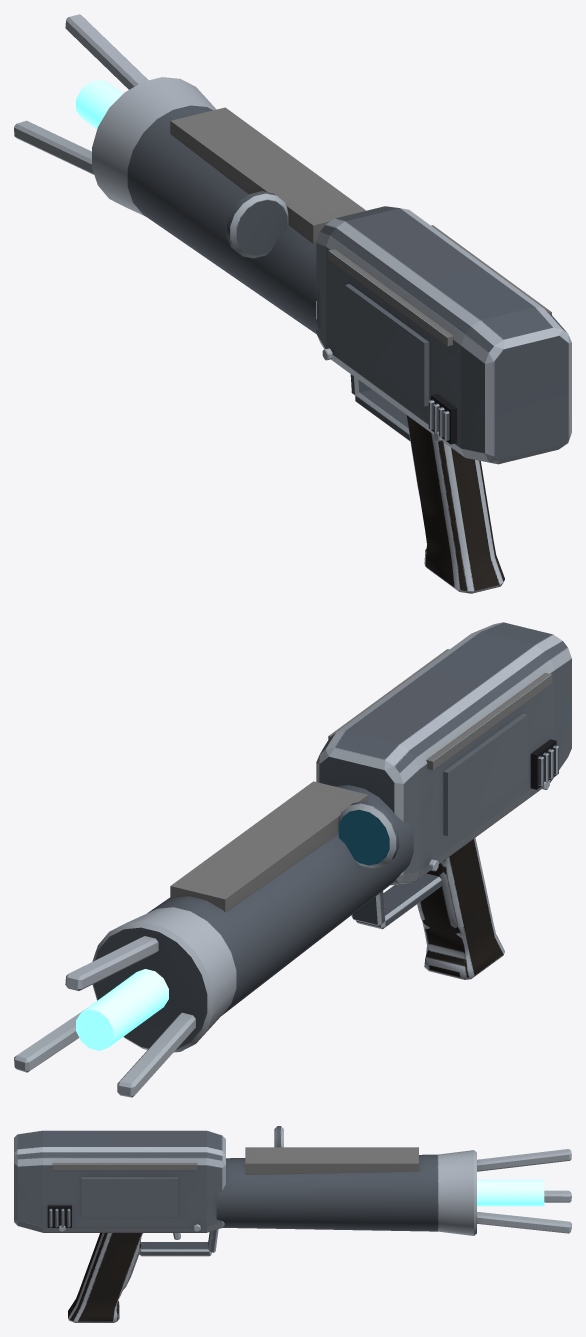
The picture shows the model from 3 angles, top to bottom: view 1: azimuth 30°, elevation 25°; view 2: azimuth 150°, elevation 25°; view 3: azimuth 270°, elevation 25°; orthographic projection. The views are drawn at different scales.
Visible parts, largest first — view 1: body; view 2: body; view 3: body.
Part boxes in pixels (x1,y1,x2,y2): body: (14, 14, 571, 593); body: (14, 622, 571, 1097); body: (14, 1126, 571, 1322).
Bounding box in the file's own units: 0.1057 × 0.203 × 0.5786.
Materials: 1 (1 with a texture image).
